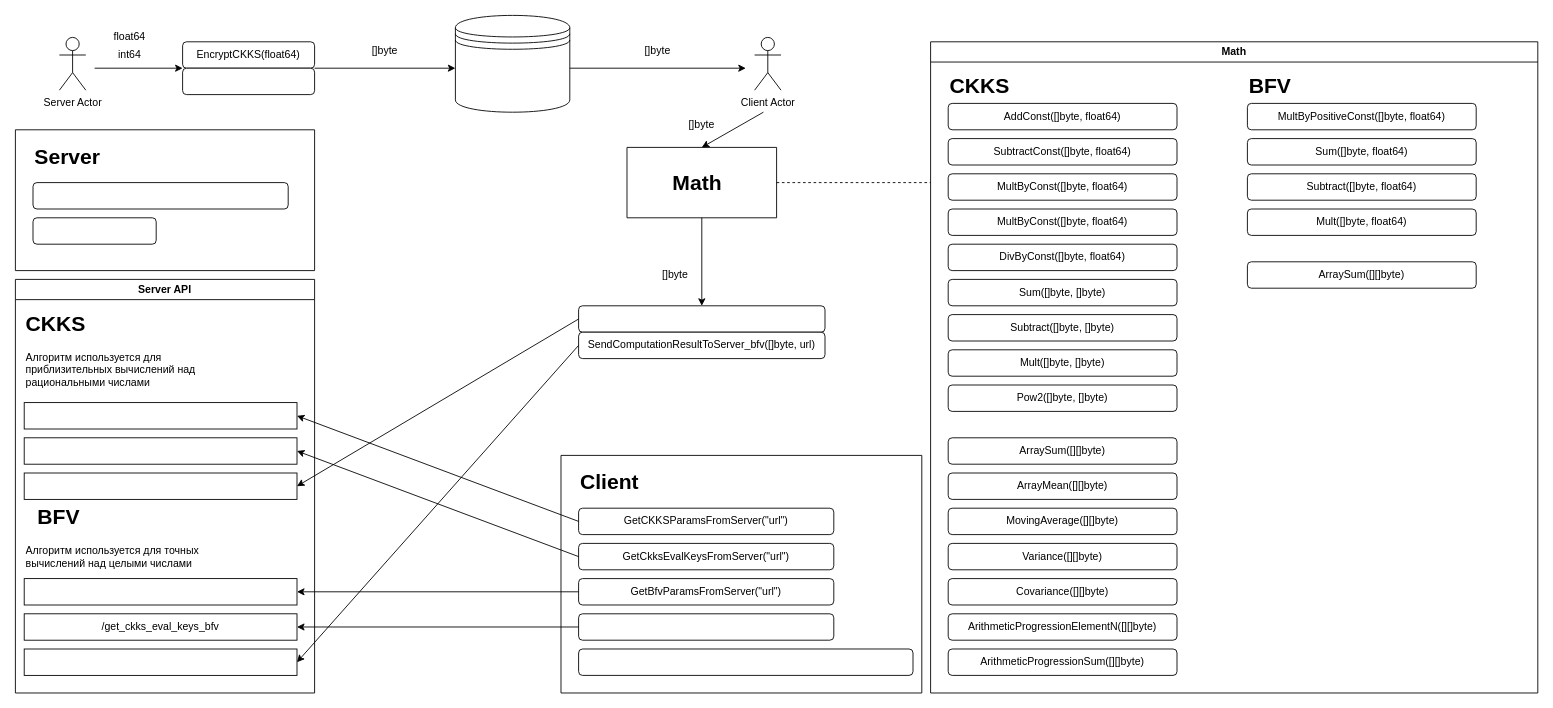
Some shapes in this 1553 by 708 pixel diagram are drawn without their labels. Each missing label, with the centre of its shape:
/decrypt_computations_bfv: the point at 160,661
/decrypt_computations_ckks: the point at 160,485
/get_ckks_eval_keys: the point at 160,450
/get_ckks_params: the point at 160,415
/get_ckks_params_bfv: the point at 160,591
DataBase: the point at 512,63
EncryptBFV(int64): the point at 248,81
GetBfvEvalKeysFromServer("url"): the point at 706,626
SendComputationResultToServer_ckks([]byte, url): the point at 701,318
SetupClient(ckksParams, bfvParameters, ckksEvalKey, bfvEvalKey): the point at 745,661
SetupServer("ckksKeys.json", bfvKeys.json"): the point at 160,195
StartSecureServer(): the point at 94,230
